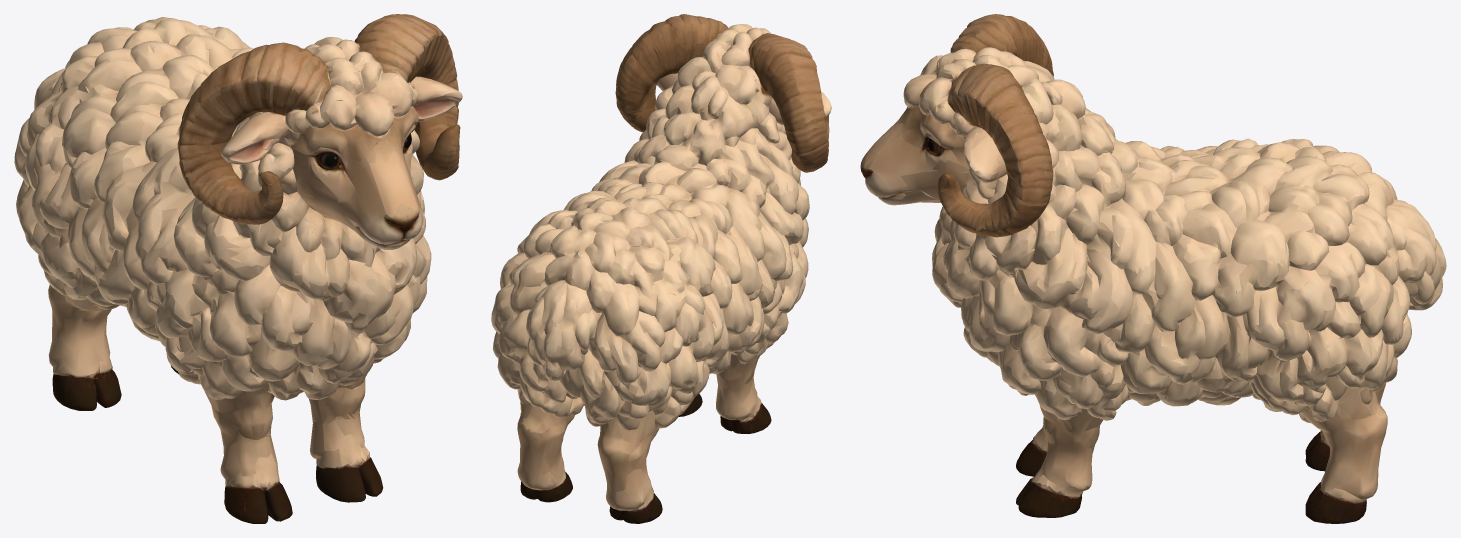
Rendered from upm_muz17ufz181.glb.
The picture shows the model from 3 angles, left to right: view 1: azimuth 30°, elevation 25°; view 2: azimuth 150°, elevation 25°; view 3: azimuth 270°, elevation 25°; orthographic projection. The views are drawn at different scales.
Size of the model in its own units: 0.943 by 1.59 by 1.9.
Materials: 1 (1 with a texture image).
